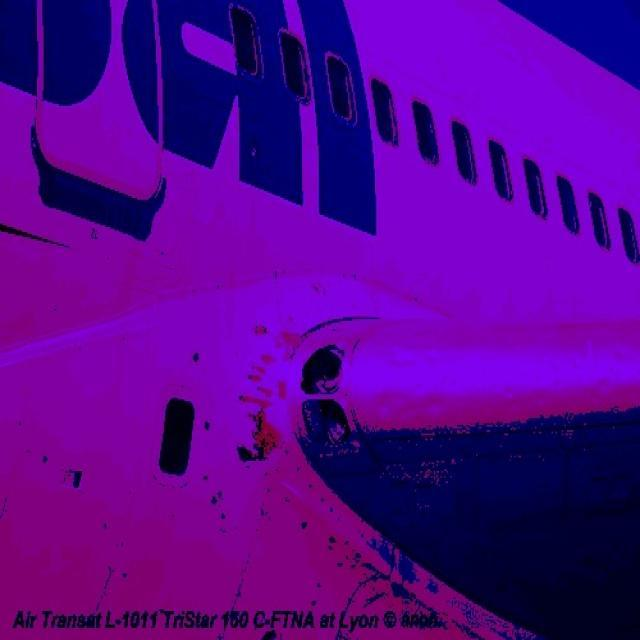dent: (375, 341, 640, 427)
